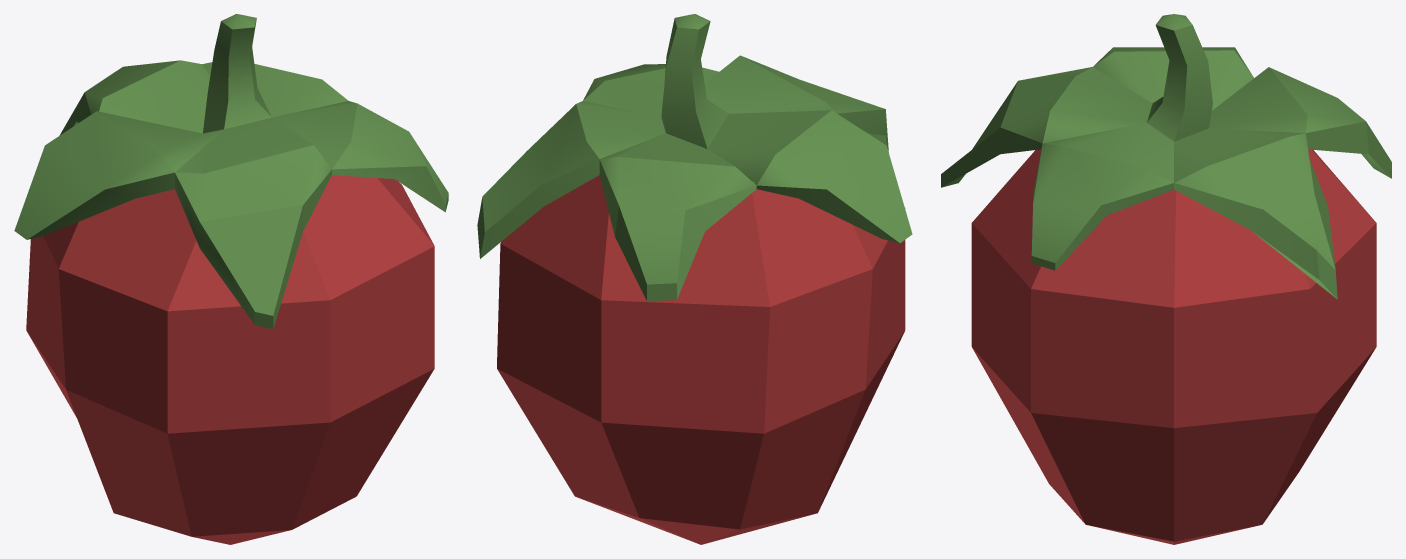
The model's file is Strawberry.fbx.
The picture shows the model from 3 angles, left to right: view 1: azimuth 30°, elevation 25°; view 2: azimuth 150°, elevation 25°; view 3: azimuth 270°, elevation 25°; orthographic projection.
Visible parts, largest first — view 1: Strawberry; view 2: Strawberry; view 3: Strawberry.
Boxes of the visible parts, x1,y1,x2,y2 form: Strawberry: (14, 14, 448, 544); Strawberry: (477, 14, 912, 544); Strawberry: (941, 14, 1391, 544).
Size of the model in its own units: 1.72 by 2.28 by 1.74.
